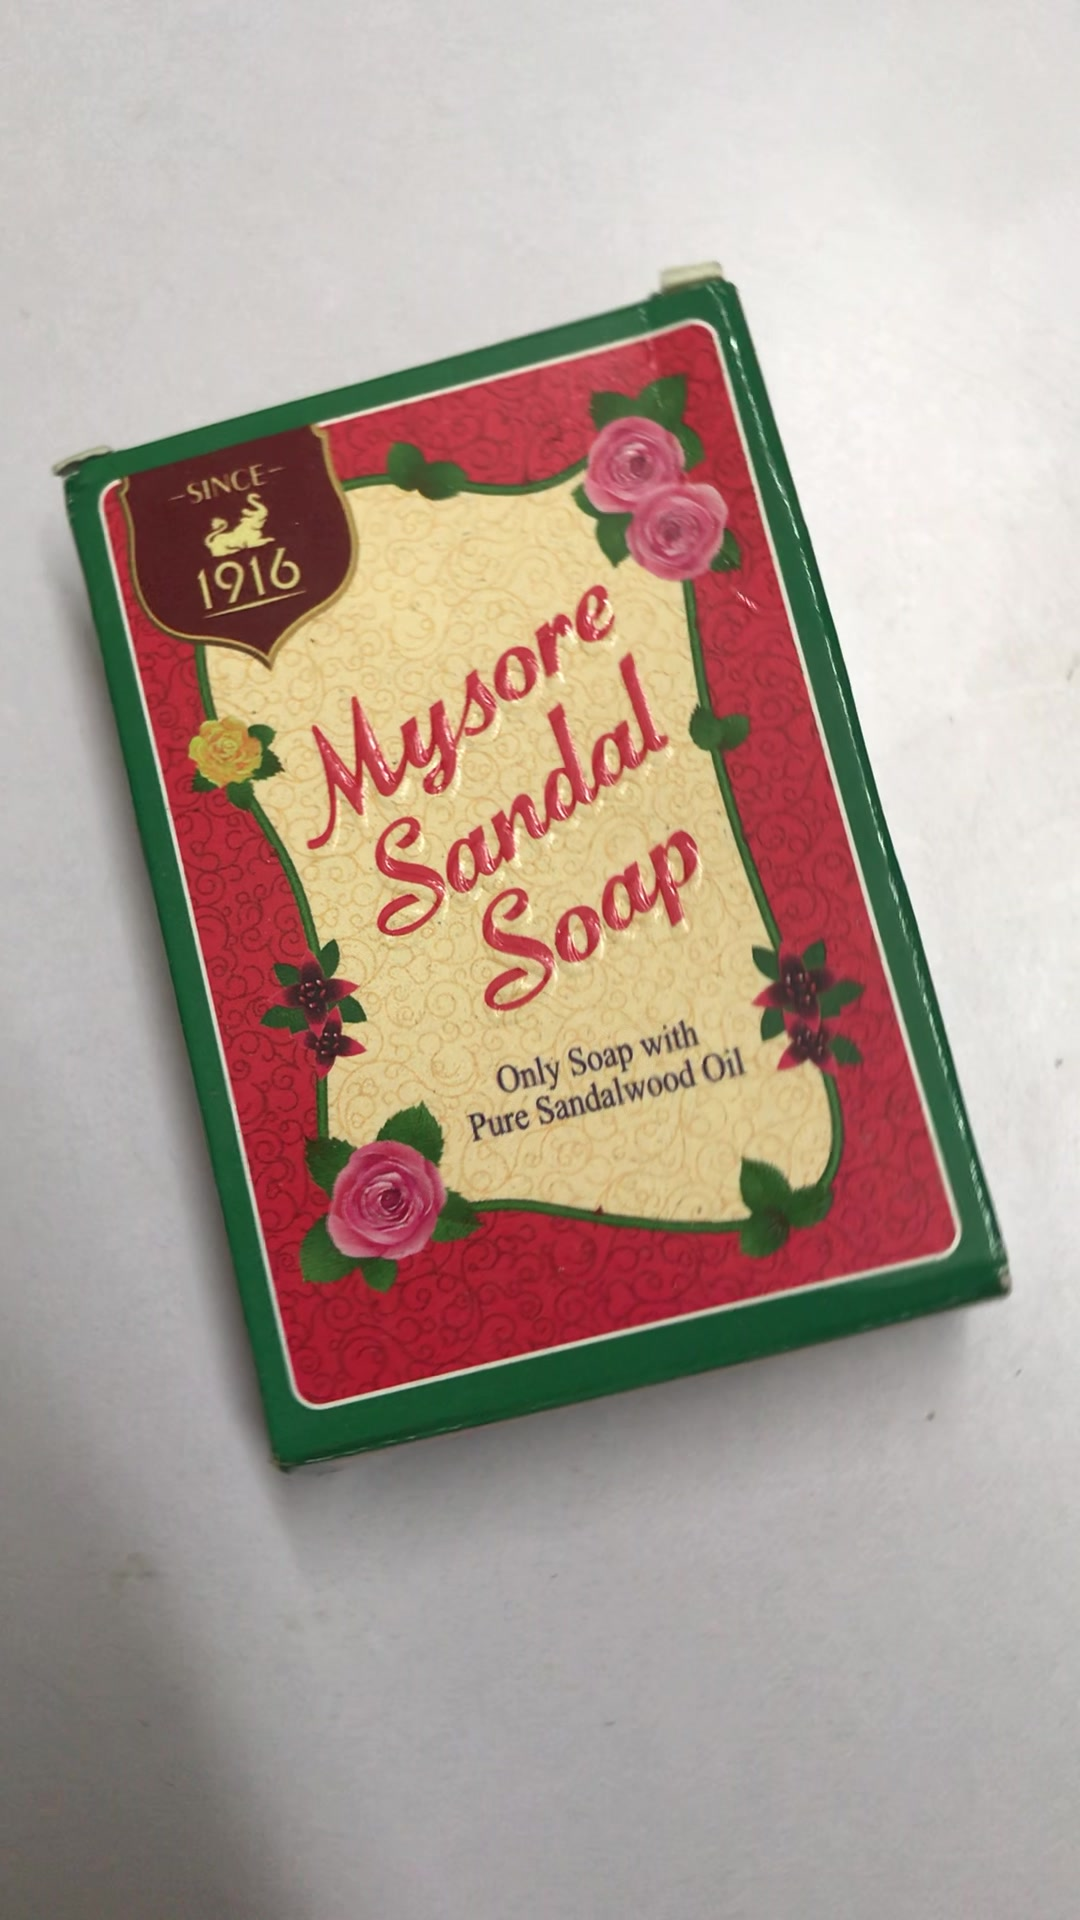mysore sandal soap: (59, 286, 1015, 1481)
